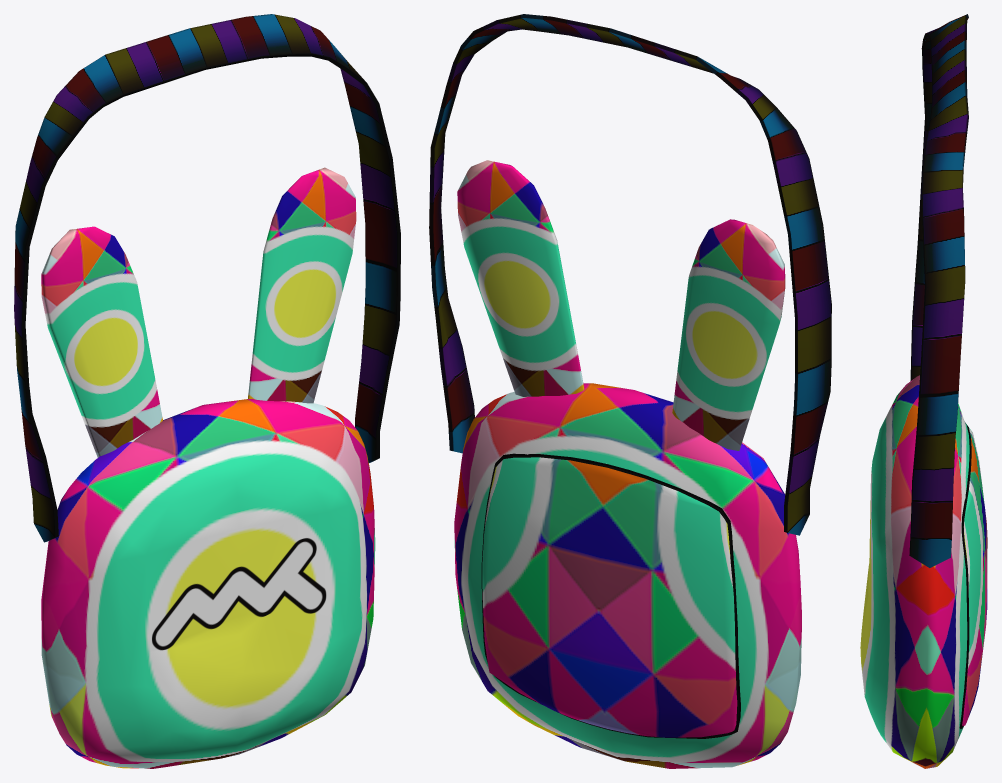
File: metaani-02770.glb
The picture shows the model from 3 angles, left to right: view 1: azimuth 30°, elevation 25°; view 2: azimuth 150°, elevation 25°; view 3: azimuth 270°, elevation 25°; orthographic projection. The views are drawn at different scales.
Parts seen in each view (by area): view 1: item04_a3_1, item04_a3_2, item04_a3_3; view 2: item04_a3_1, item04_a3_2; view 3: item04_a3_1, item04_a3_2.
Part boxes in pixels (x1,y1,x2,y2): item04_a3_1: (41,167,375,768); item04_a3_2: (14,14,400,542); item04_a3_3: (151,538,326,650); item04_a3_1: (454,160,801,768); item04_a3_2: (429,14,831,738); item04_a3_1: (860,375,987,768); item04_a3_2: (909,14,971,728).
Bounding box in the file's own units: 0.6738 × 1.22 × 0.2033.
Materials: 3 (3 with a texture image).
